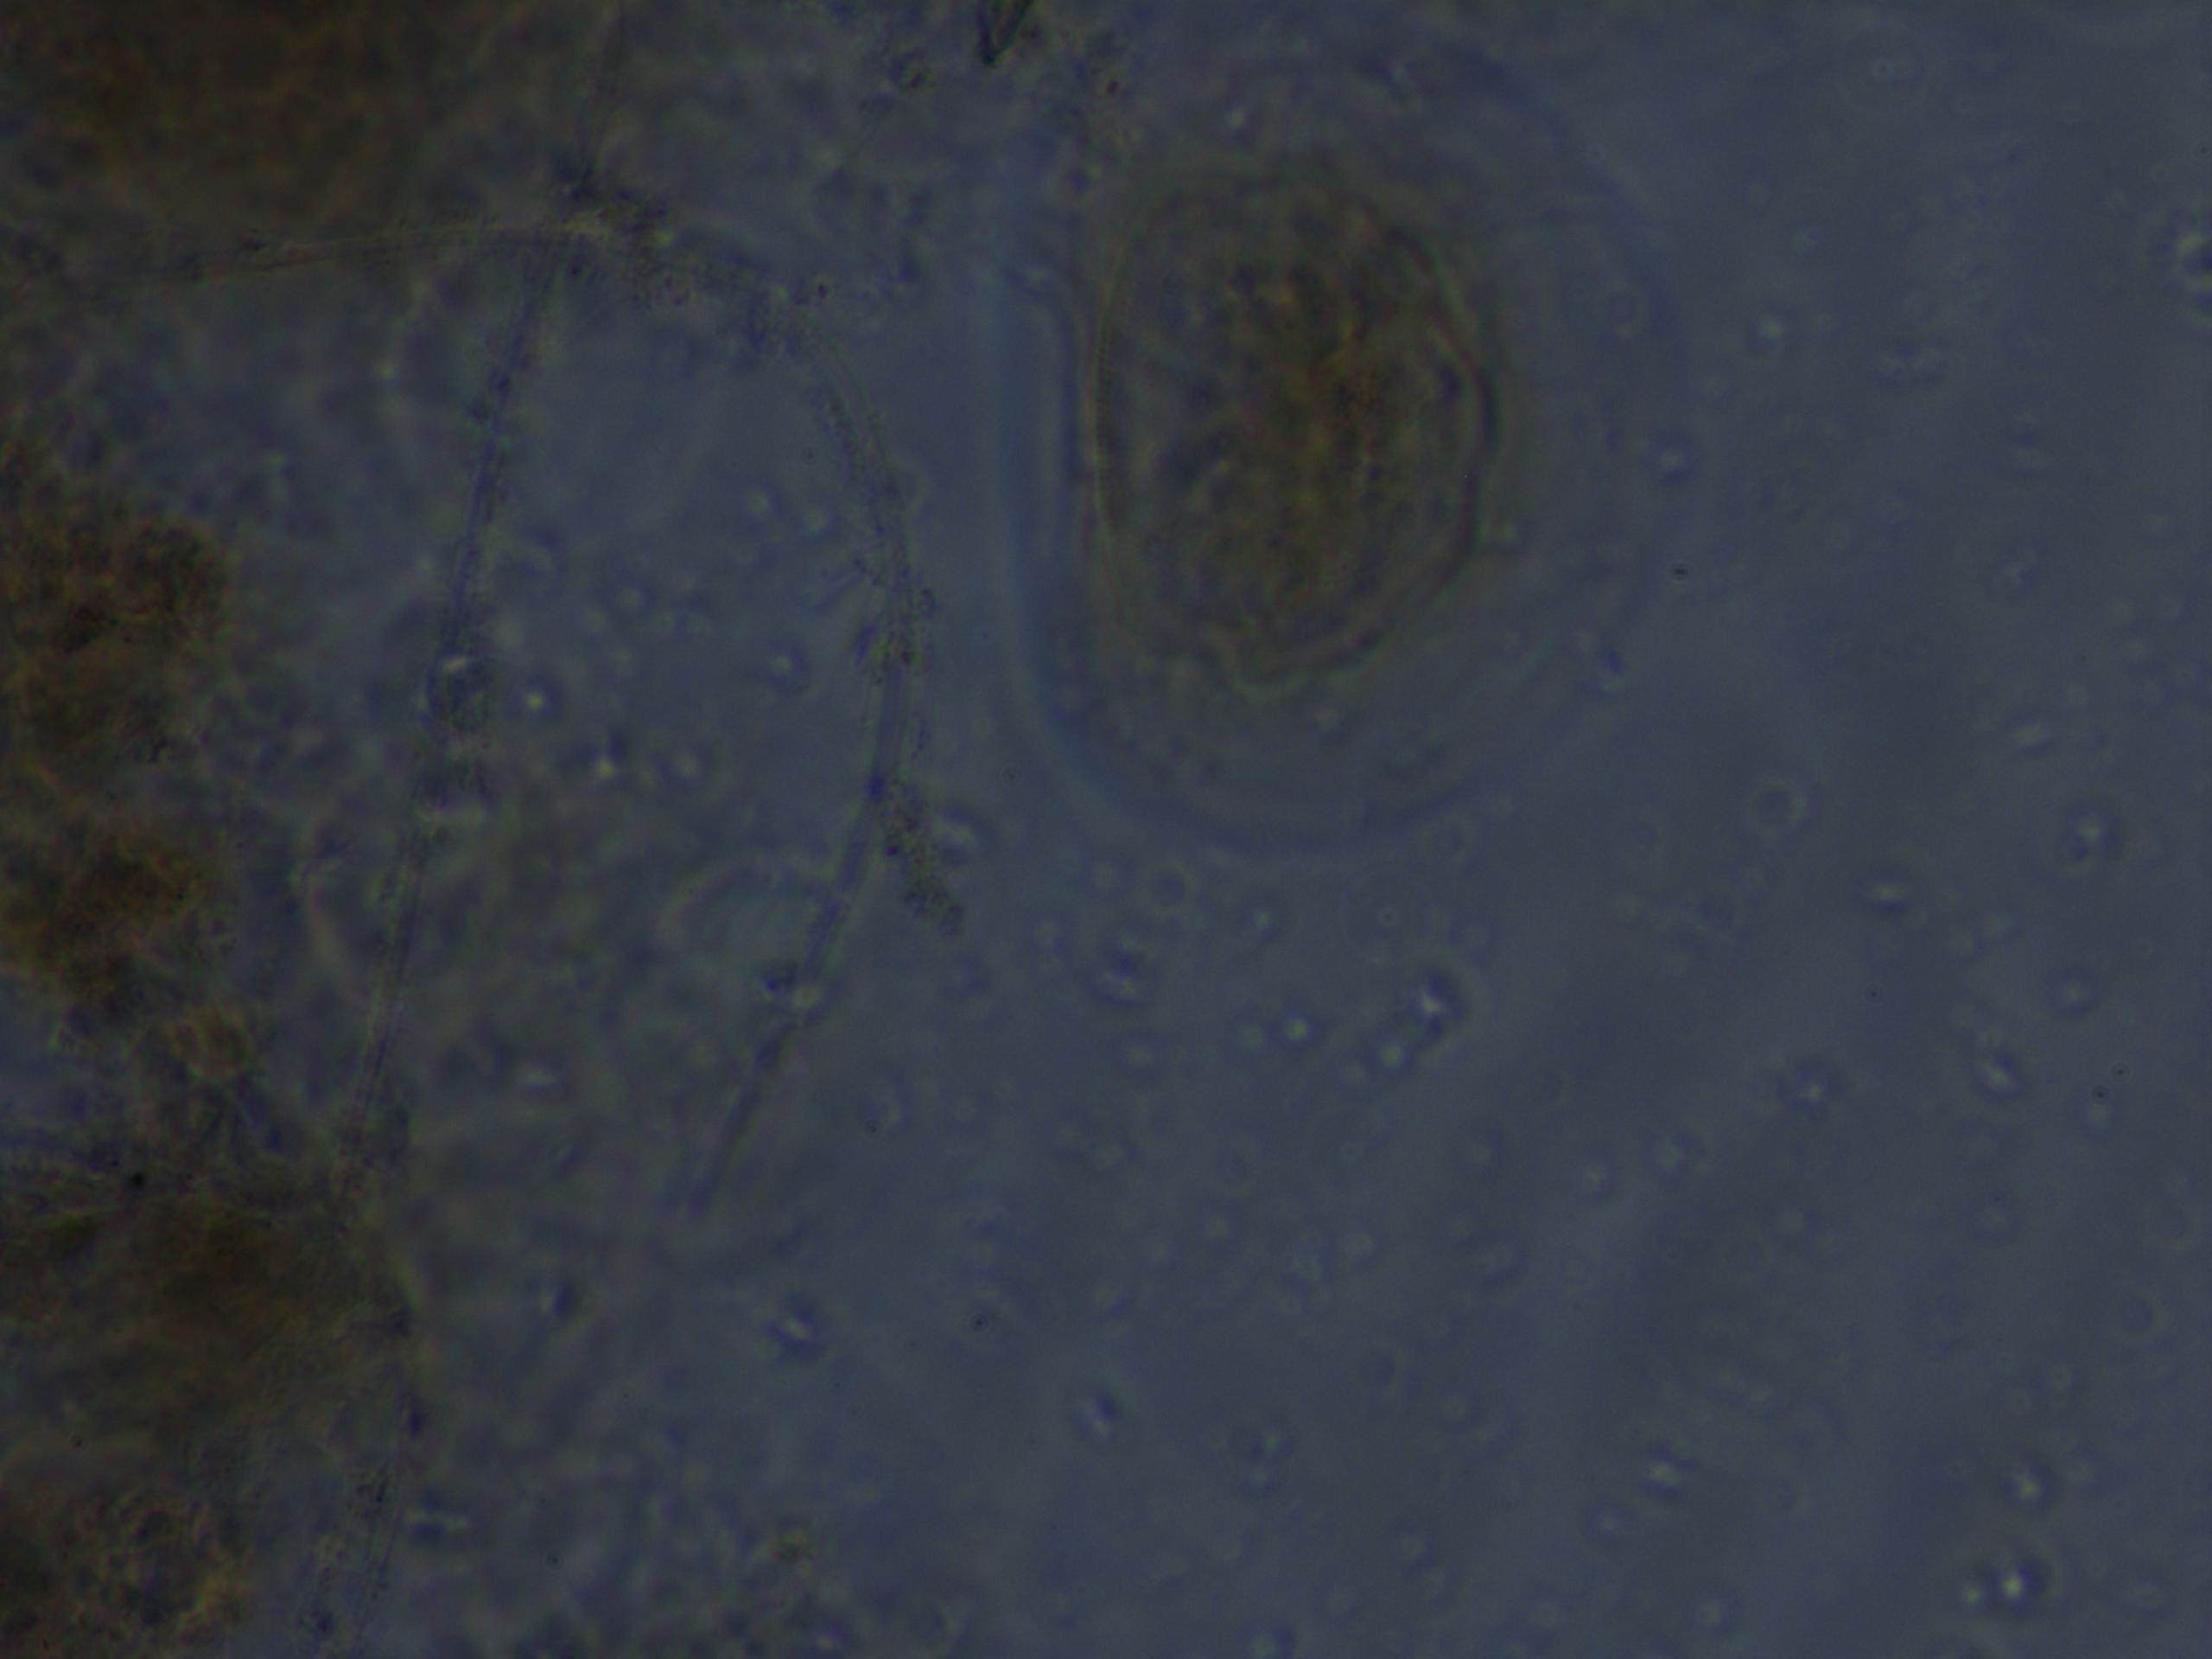filament: (92, 202, 941, 1249), (315, 0, 646, 1150)
